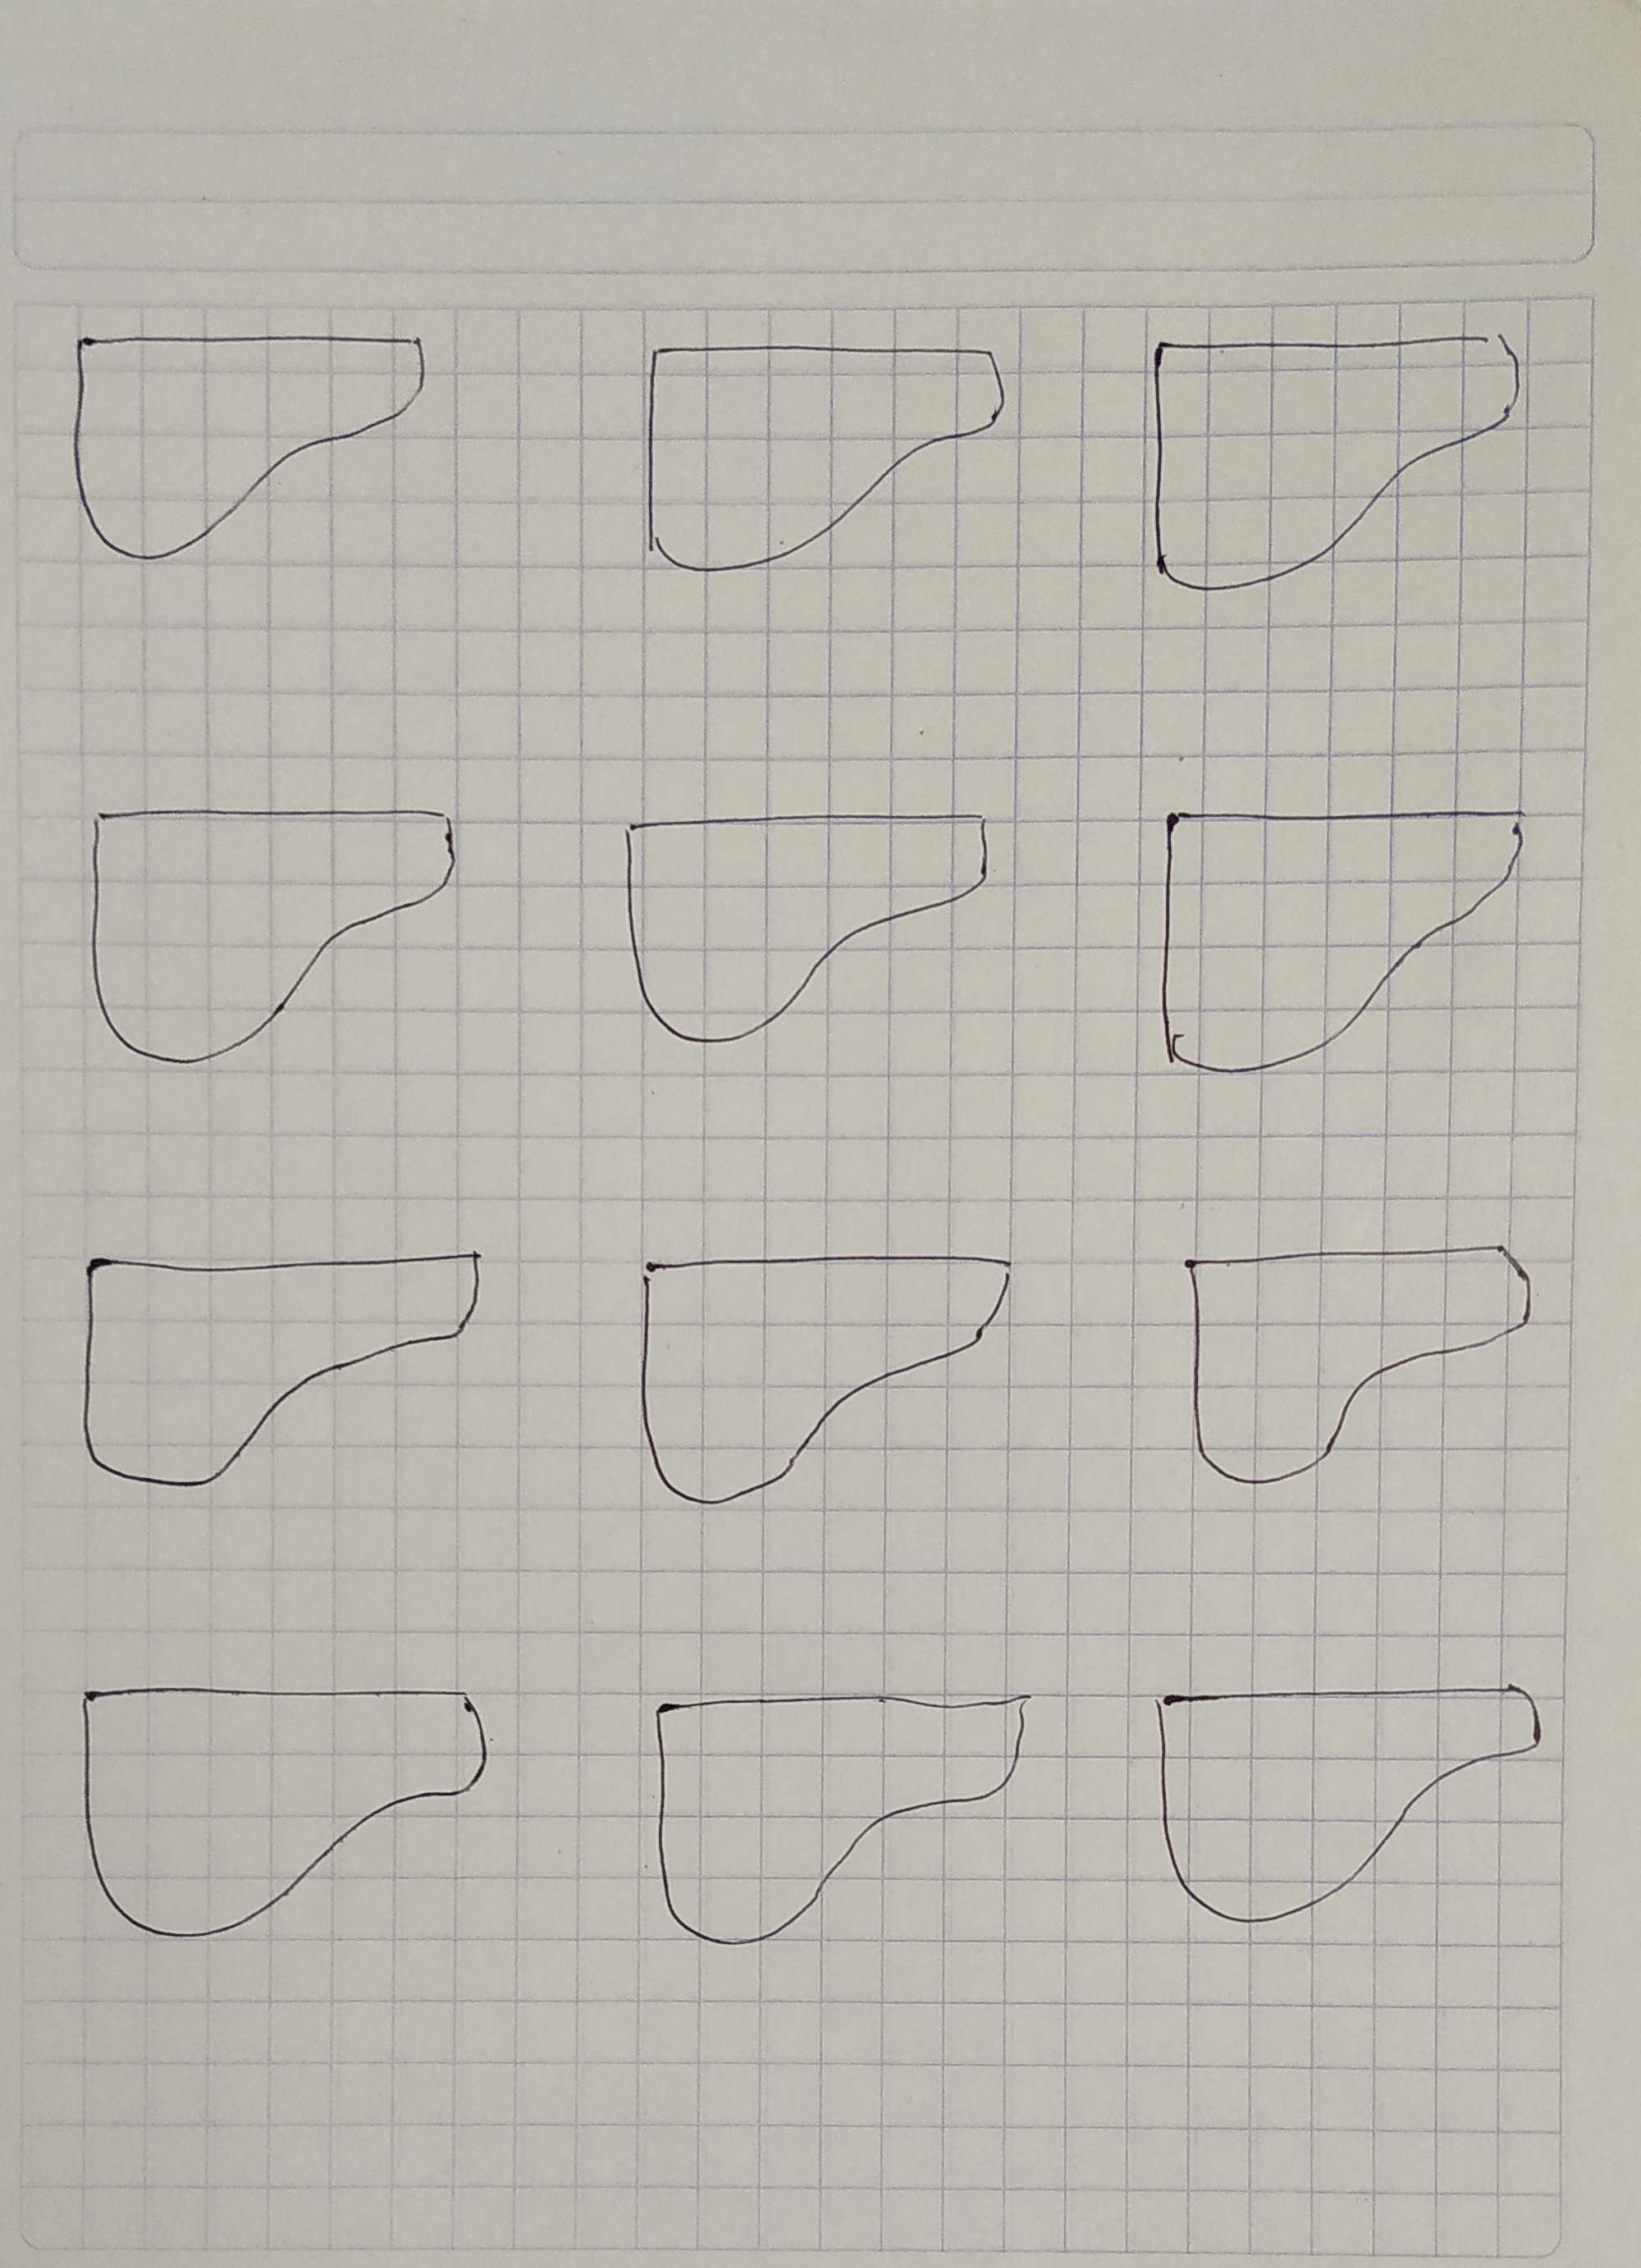print: (49, 1631, 521, 1990), (62, 748, 481, 1108), (627, 1648, 1049, 1993), (1129, 759, 1542, 1097), (606, 1213, 1048, 1528), (1153, 1197, 1556, 1528), (1109, 305, 1549, 606), (56, 1206, 514, 1493), (1122, 1638, 1564, 1932), (592, 773, 1014, 1067), (42, 283, 442, 592), (616, 308, 1023, 595)
